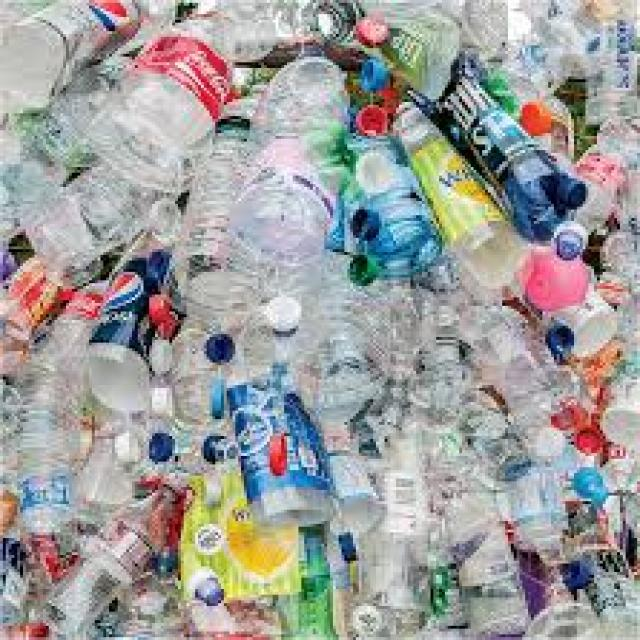heap: (13, 10, 639, 639)
